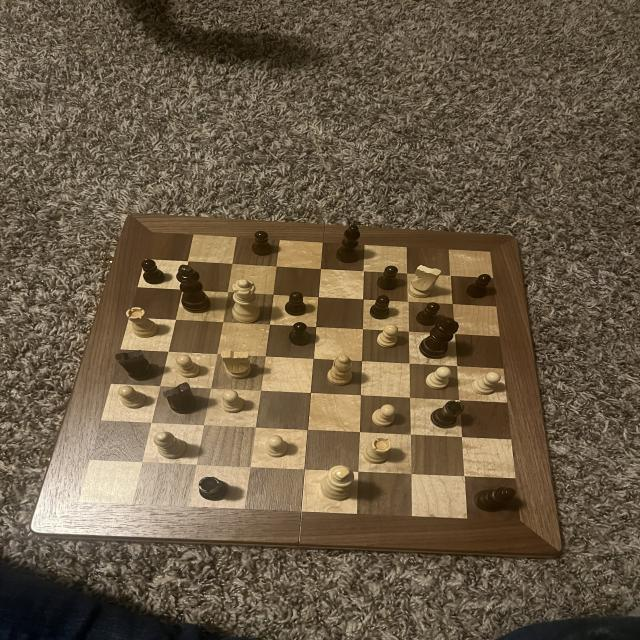bishop: (471, 482, 518, 513), (332, 224, 365, 266)
black-bishop: (176, 263, 216, 314)
black-king: (114, 348, 156, 382), (162, 380, 198, 416)
black-knight: (140, 256, 168, 288), (462, 270, 493, 298), (280, 289, 310, 316), (286, 321, 313, 348), (251, 230, 277, 258), (370, 294, 395, 320), (377, 264, 400, 292), (414, 300, 439, 325)
black-pawn: (419, 316, 462, 366)
black-queen: (428, 400, 466, 430), (195, 473, 228, 501)
black-rook: (152, 429, 191, 462), (324, 353, 359, 389)
white-bishop: (317, 463, 357, 501)
white-king: (408, 264, 442, 302), (220, 348, 256, 380)
white-knight: (115, 384, 153, 412), (470, 369, 500, 397), (374, 323, 404, 349), (424, 365, 454, 390), (175, 353, 203, 379), (220, 388, 246, 414), (263, 434, 290, 458), (371, 404, 399, 427)
white-pawn: (228, 278, 263, 325)
white-queen: (125, 306, 162, 339), (361, 437, 394, 465)
